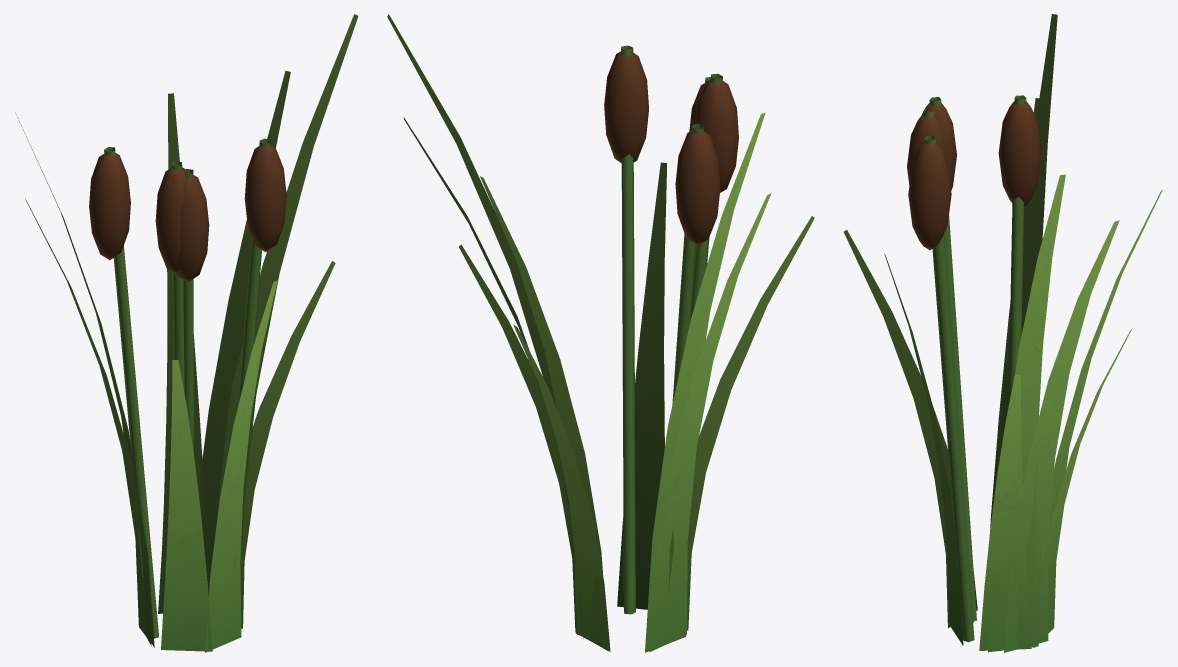
Rendered from reeds.glb.
3 views of the same model, side by side, from view 1: azimuth 30°, elevation 25°; view 2: azimuth 150°, elevation 25°; view 3: azimuth 270°, elevation 25° (orthographic). The views are drawn at different scales.
Parts seen in each view (by area): view 1: reeds_main; view 2: reeds_main; view 3: reeds_main.
Boxes of the visible parts, box(x1,y1,x2,y2) form: reeds_main: box(15, 14, 358, 652); reeds_main: box(387, 14, 814, 652); reeds_main: box(844, 14, 1162, 652).
Bounding box in the file's own units: 0.5233 × 0.7883 × 0.4134.
